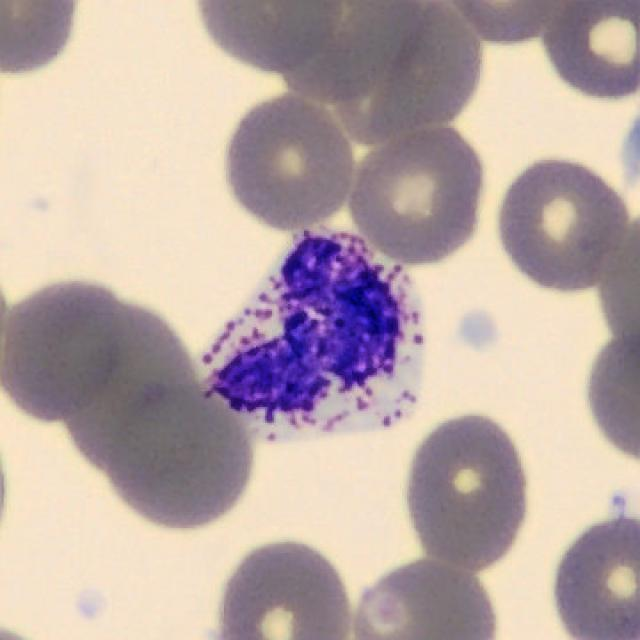Basofilo: (203, 235, 423, 441)
